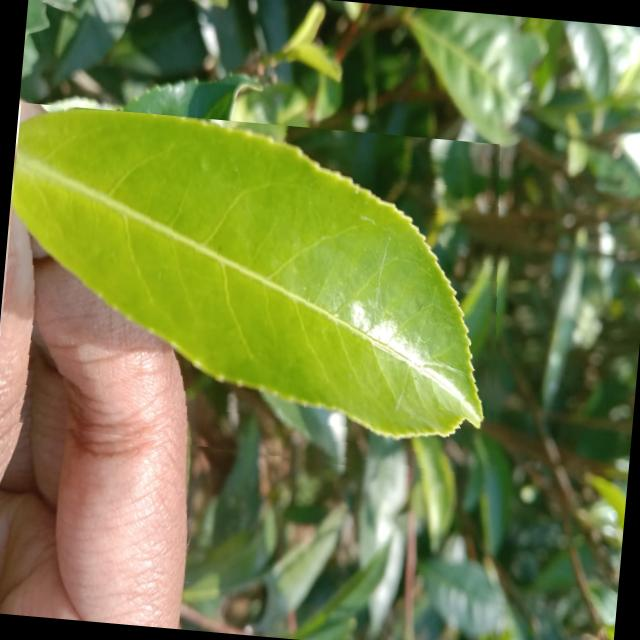Category B(2-4 days): (0, 102, 521, 485)
